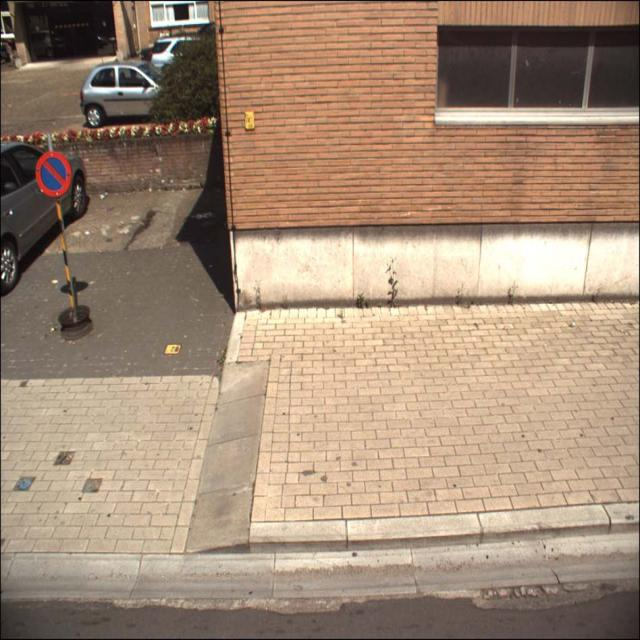parkyasak: (34, 152, 71, 198)
